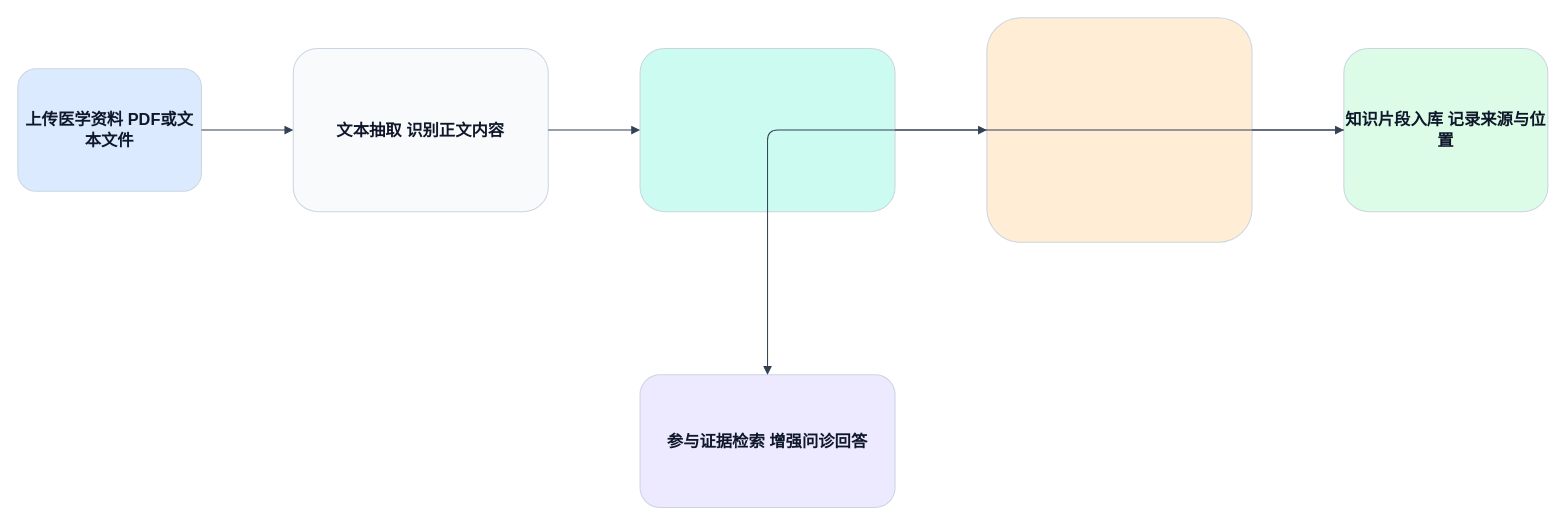
This 1566x525 diagram has some shape labels left out. Each missing label, with the centre of its shape:
"医学语义切片 保留上下文连续性" belongs at (x=1119, y=129).
"文本规范化 换行 / 空白 / 段落" belongs at (x=767, y=129).
